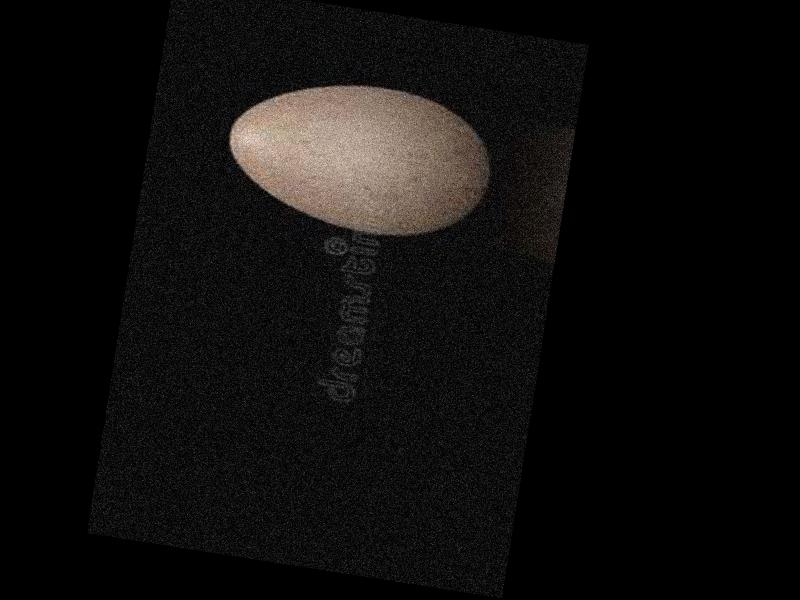Eggs: (217, 65, 501, 248)
